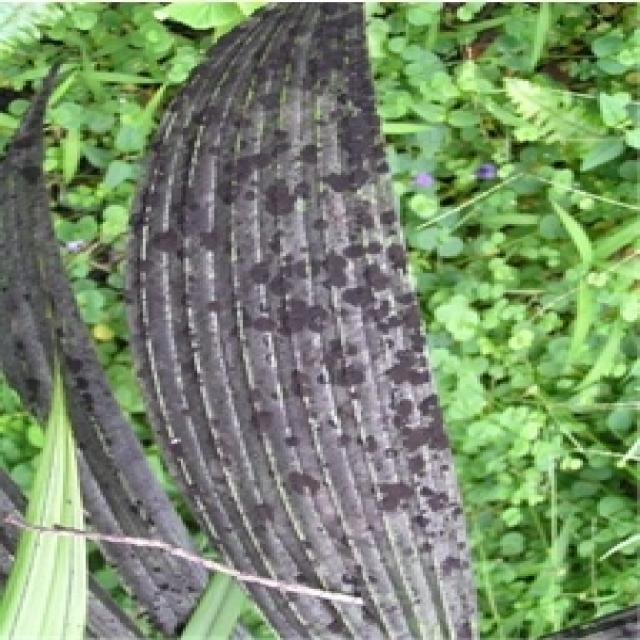Sooty Mold: (117, 2, 486, 638), (0, 55, 240, 638)
